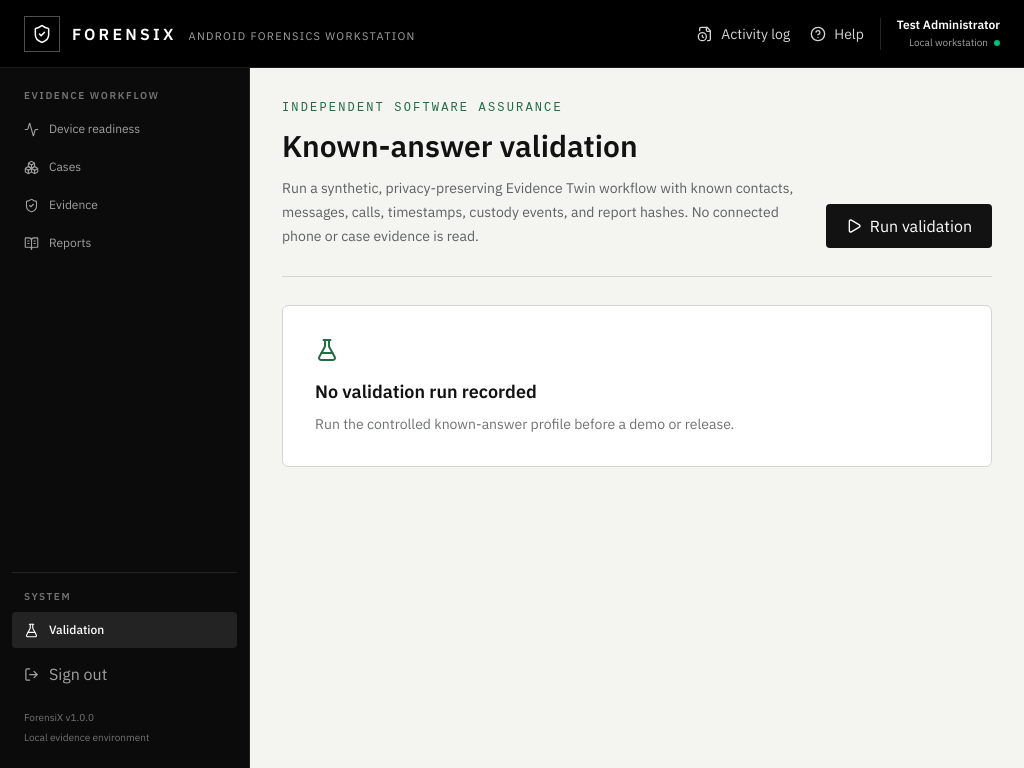
Scenario: known-answer validation › runs and displays a sealed synthetic validation result
Expected: the heading "Known-answer validation" is shown, [282,126,638,165]
Expected: the heading "No validation run recorded" is shown, [315,380,537,403]
Click the button "Run validation".
click(909, 226)  # box [826,204,992,248]
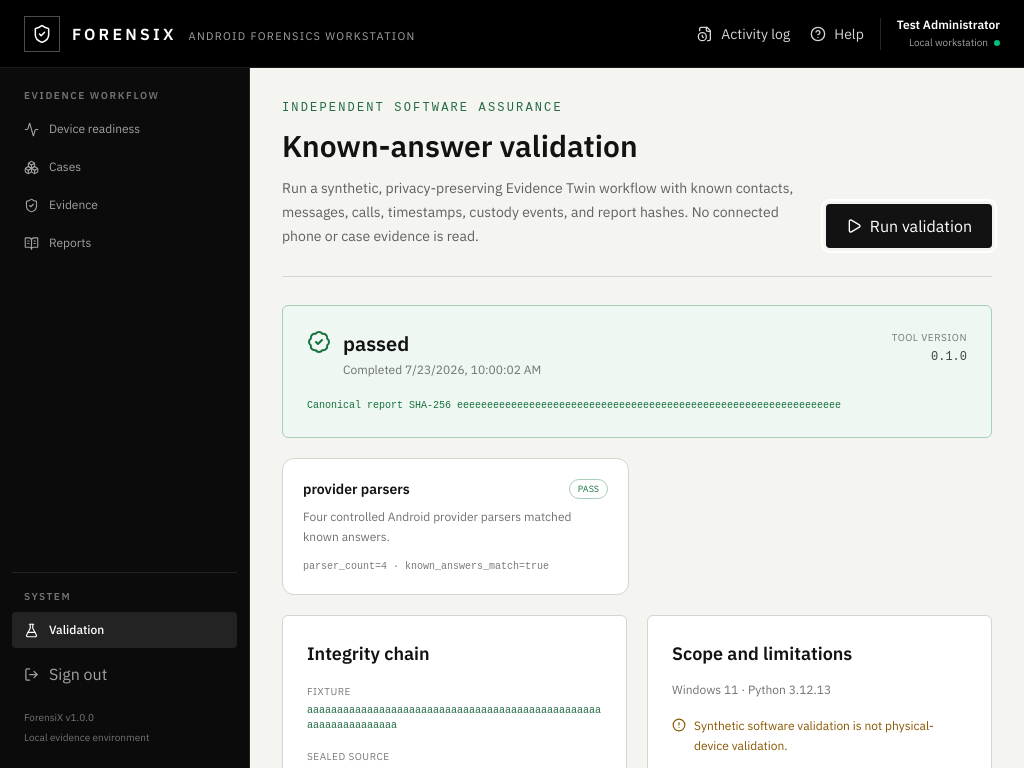
Result: the heading "passed" is shown at [343,330,409,357]
Result: the heading "provider parsers" is shown at [303,479,410,499]
